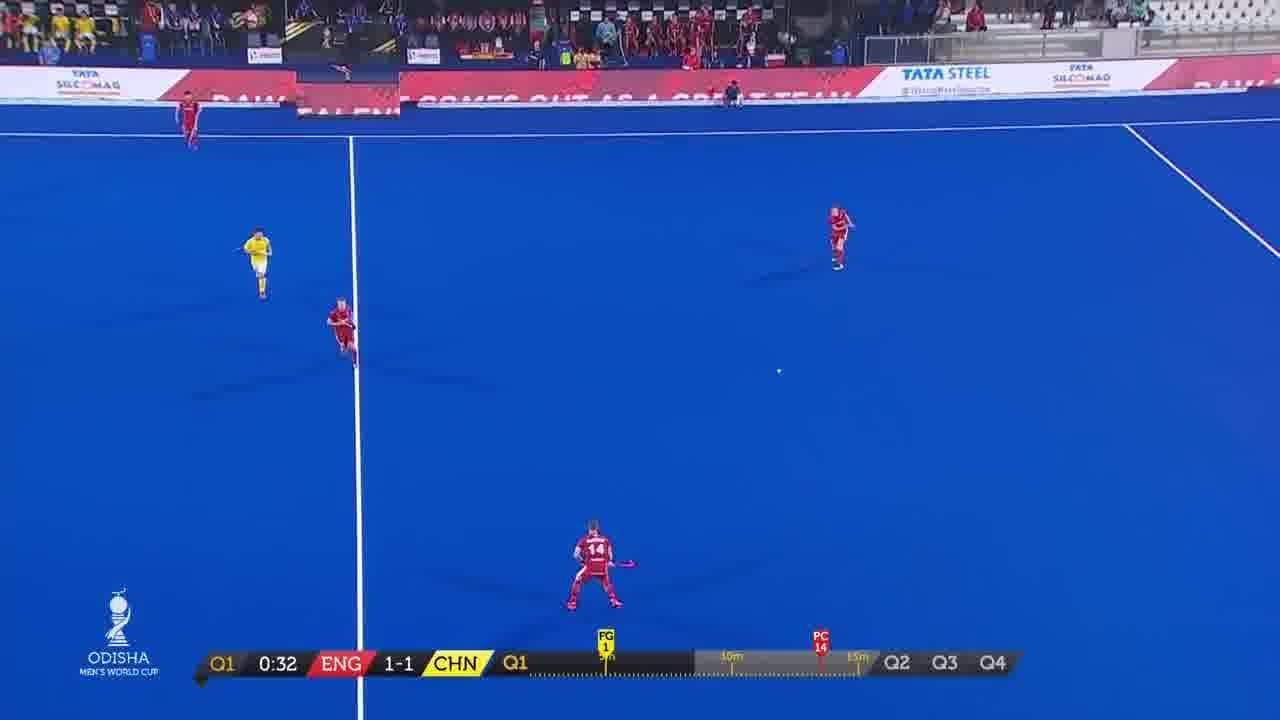ball: (767, 359, 790, 385)
